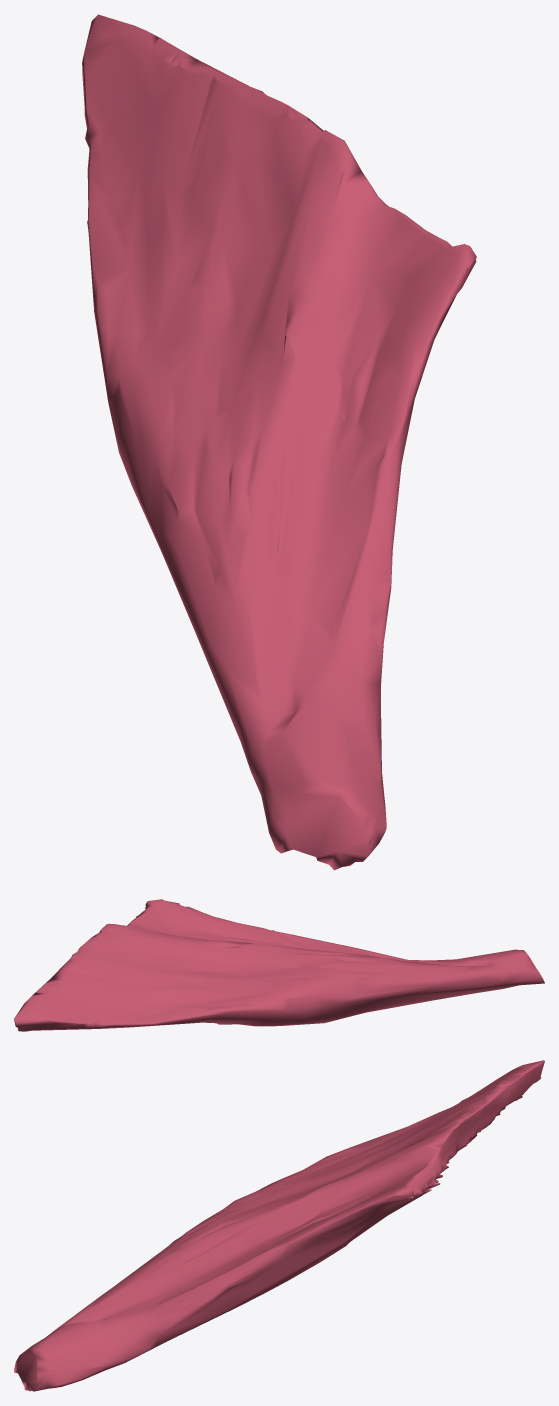
3 views of the same model, one above another, from view 1: azimuth 30°, elevation 25°; view 2: azimuth 150°, elevation 25°; view 3: azimuth 330°, elevation 25° (orthographic). The views are drawn at different scales.
Parts seen in each view (by area): view 1: 左侧短收肌; view 2: 左侧短收肌; view 3: 左侧短收肌.
Boxes of the visible parts, x1=… form: 左侧短收肌: x1=82, y1=14, x2=476, y2=870; 左侧短收肌: x1=14, y1=899, x2=544, y2=1031; 左侧短收肌: x1=14, y1=1060, x2=544, y2=1391.
Size of the model in its own units: 0.1165 by 0.0704 by 0.2597.
